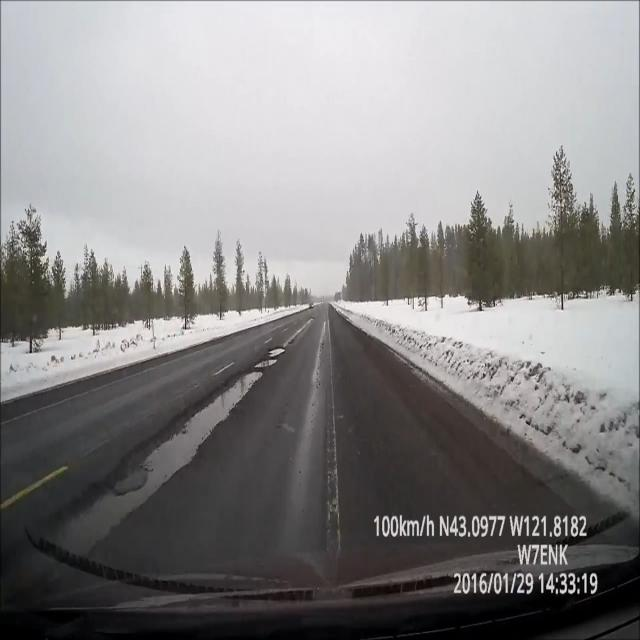Pothole: (77, 369, 265, 541), (252, 335, 294, 371)
